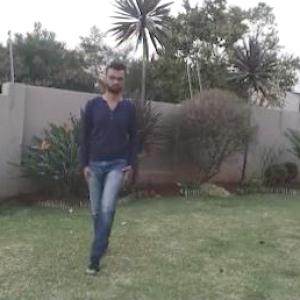follow: (68, 43, 146, 274)
